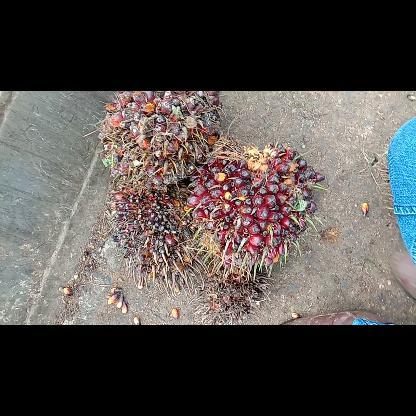TBS abnormal: (102, 178, 204, 292), (193, 258, 271, 324)
TBS masak: (182, 134, 328, 286), (92, 92, 224, 190)
